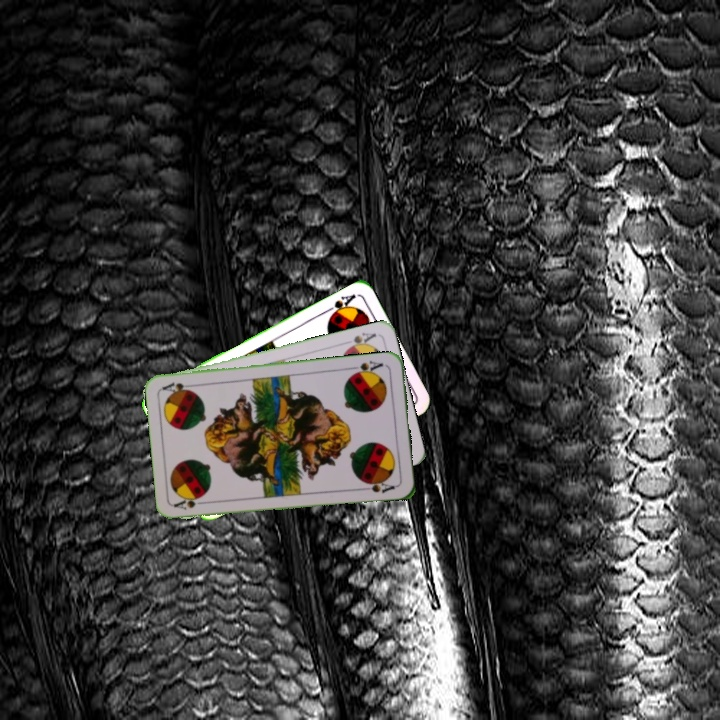SA: (321, 289, 358, 321), (342, 328, 379, 353), (347, 356, 385, 378), (170, 494, 211, 512)
